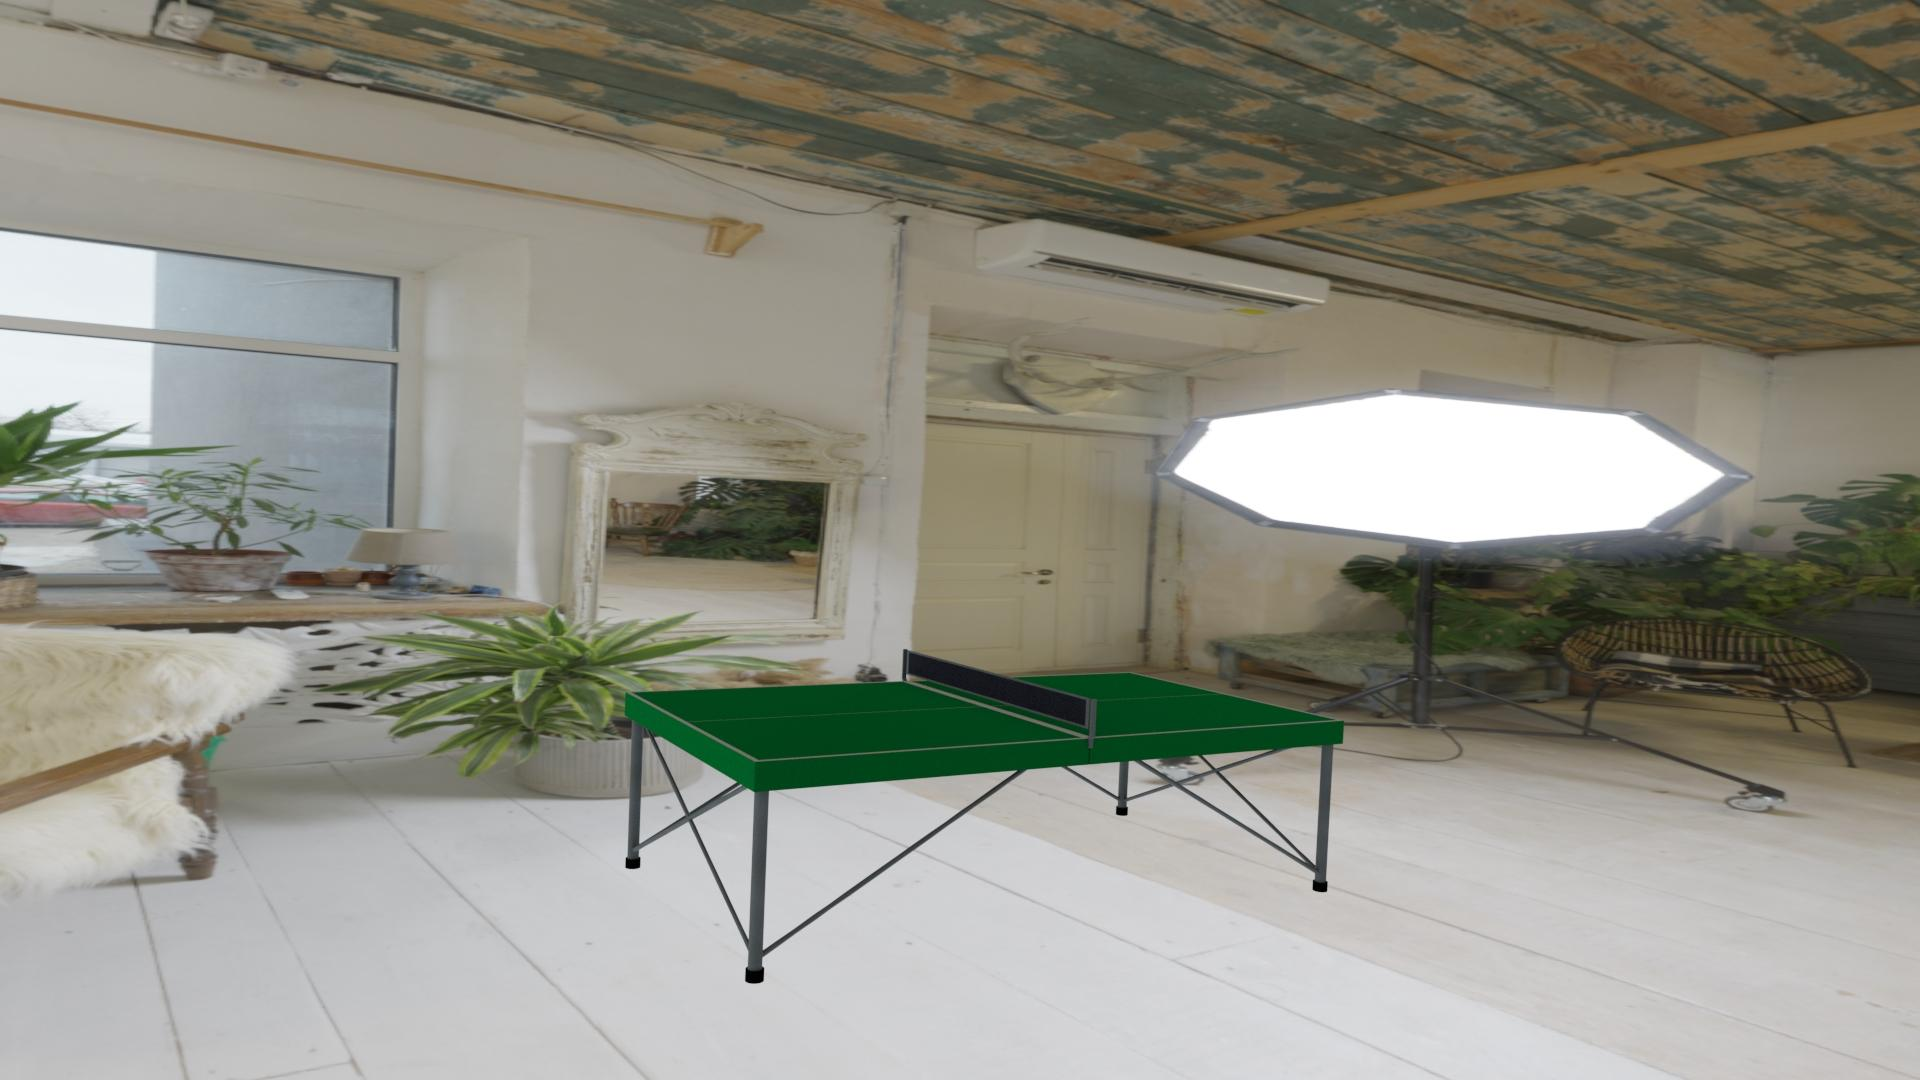table: (632, 673, 1337, 760)
